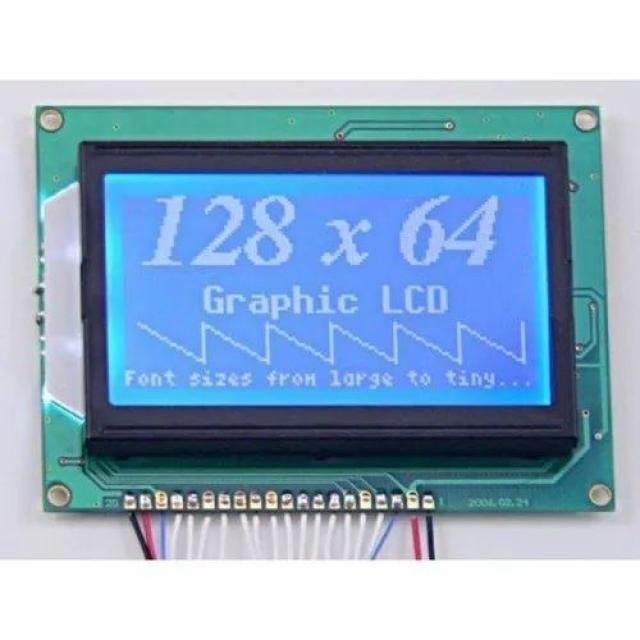Display: (21, 86, 634, 539)
